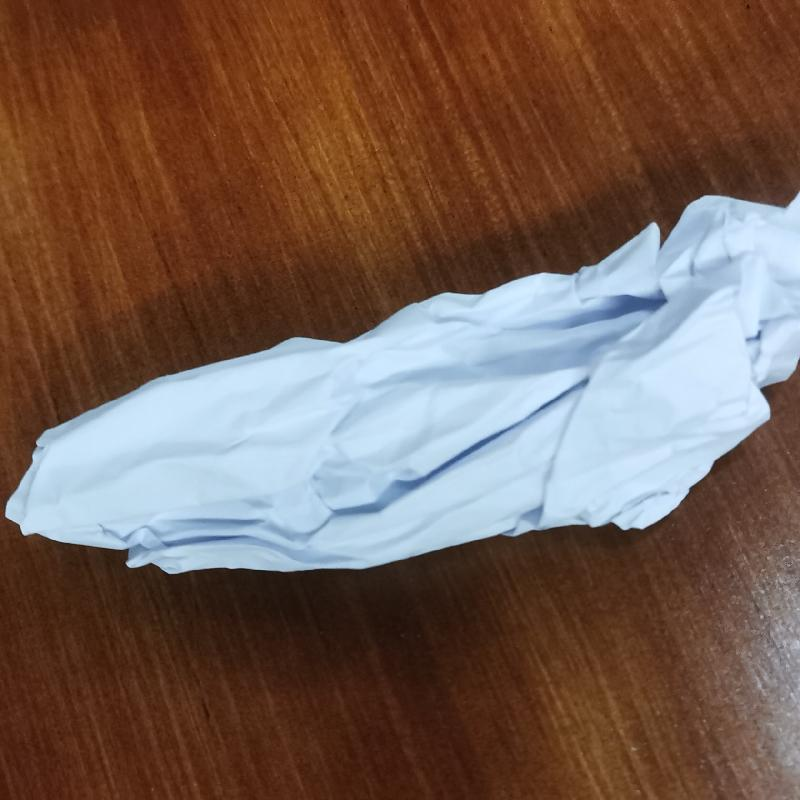spitball: (5, 191, 799, 580)
